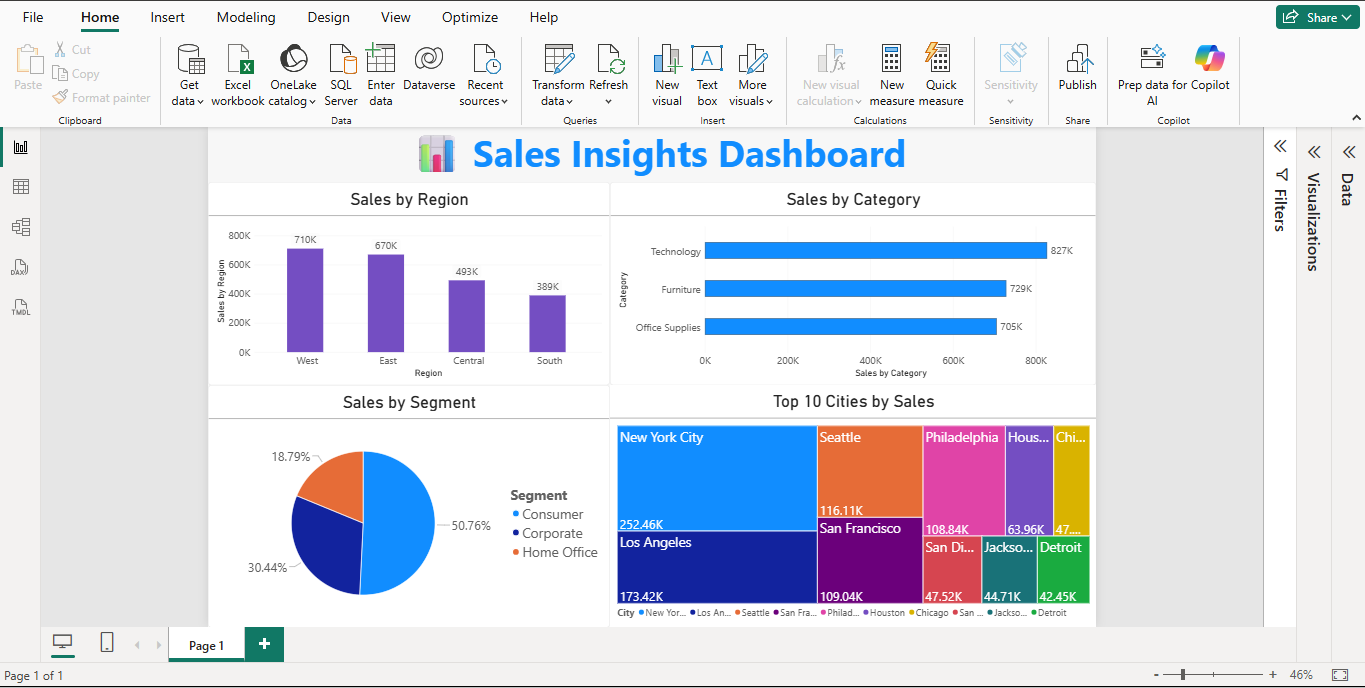

Layout of this report page (visuals, bound fields, positions):
{"tool":"powerbi","page":{"name":"Page 1","canvas":[1920,1080],"ordinal":0},"visuals":[{"type":"clusteredColumnChart","title":"Sales by Region","fields":{"Category":["train.Region"],"Y":["Sum(train.Sales)"]},"box":[0,118.4,868.4,439.5],"z":0},{"type":"clusteredBarChart","title":"Sales by Category","fields":{"Category":["train.Category"],"Y":["Sum(train.Sales)"]},"box":[868.4,118.4,1050,439.5],"z":1},{"type":"pieChart","title":"Sales by Segment","fields":{"Category":["train.Segment"],"Y":["Sum(train.Sales)"]},"box":[0,557.9,868.4,523.7],"z":2},{"type":"treemap","title":"Top 10 Cities by Sales","fields":{"Group":["train.City"],"Values":["Sum(train.Sales)"]},"box":[868.4,557.9,1052.6,523.7],"z":3},{"type":"textbox","box":[100,0,1750,118.4],"z":4}]}

Visuals, with their boxes on the page's 1920x1080 design canvas (x1, y1, x2, y2). These are canvas units, not pixel positions in the 1365x688 screenshot, which may show the page scaled, cropped or inside an application window:
"Sales by Region" clusteredColumnChart: select_region(0, 118, 868, 558)
"Sales by Category" clusteredBarChart: select_region(868, 118, 1918, 558)
"Sales by Segment" pieChart: select_region(0, 558, 868, 1082)
"Top 10 Cities by Sales" treemap: select_region(868, 558, 1921, 1082)
textbox: select_region(100, 0, 1850, 118)
